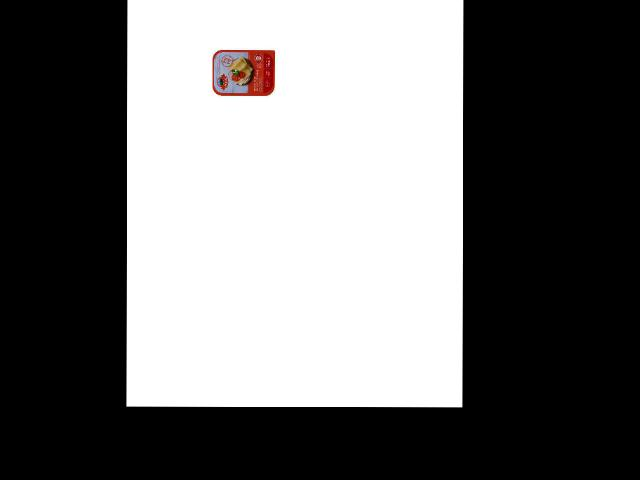cheese: (210, 48, 278, 99)
